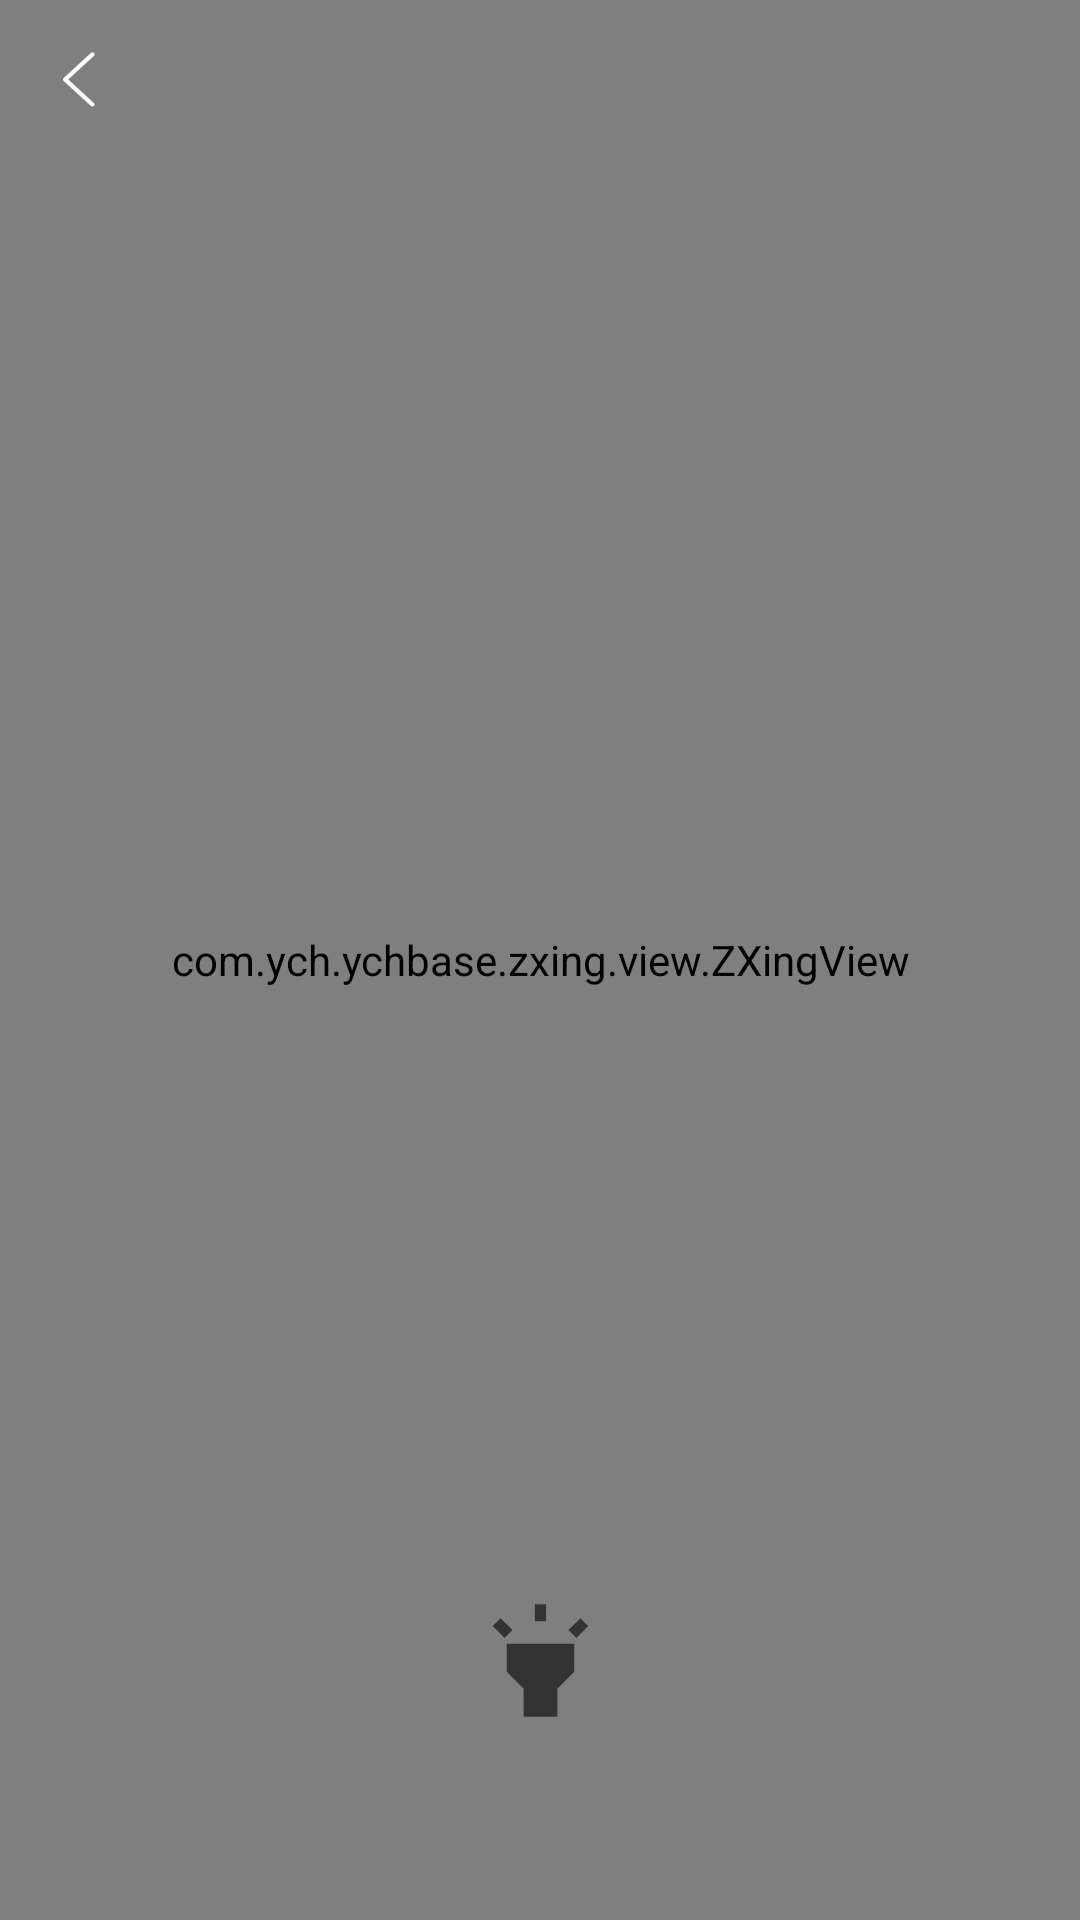

Icon bounding boxes for this 1080x1920 phone screenshot, format (x1, y1, x2, y2):
back: (63, 52, 95, 107)
highlight: (493, 1604, 588, 1717)
